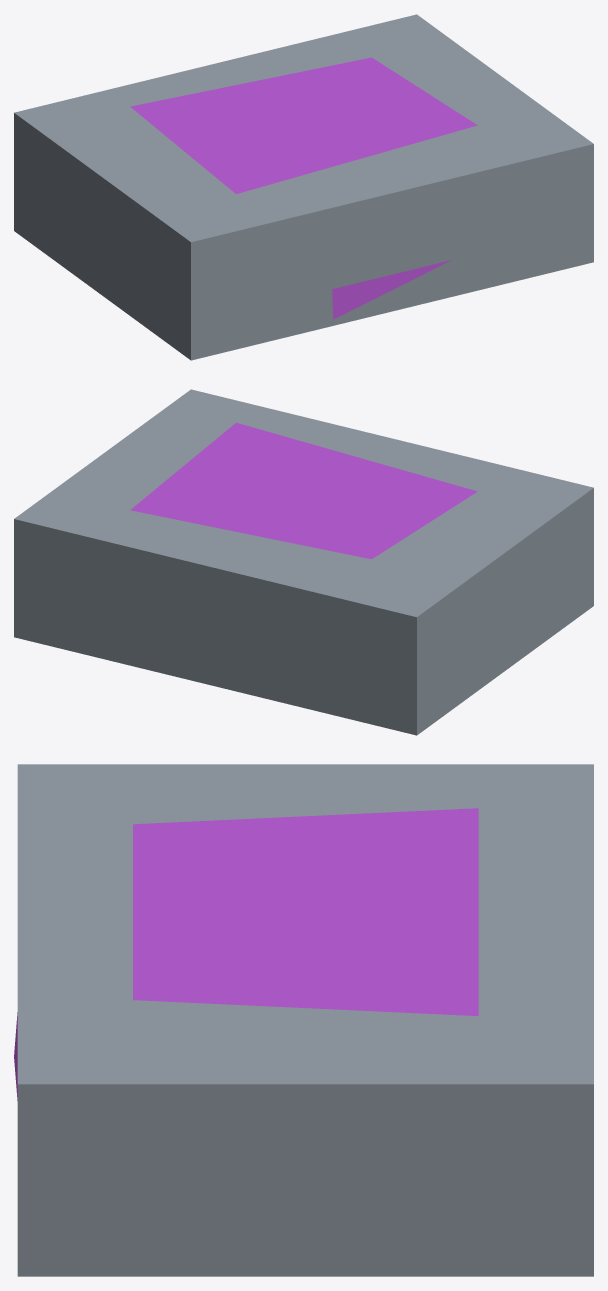
File: CH_TrailGunship_LOD1.glb
3 renders of one model, top to bottom at view 1: azimuth 30°, elevation 25°; view 2: azimuth 150°, elevation 25°; view 3: azimuth 270°, elevation 25°, orthographic. The views are drawn at different scales.
Visible parts, largest first — view 1: EntranceGate; view 2: EntranceGate; view 3: EntranceGate.
Boxes of the visible parts, <box> form: EntranceGate: <box>14,14,593,360</box>; EntranceGate: <box>14,389,593,735</box>; EntranceGate: <box>14,764,593,1276</box>.
Size of the model in its own units: 670 by 208 by 513.
